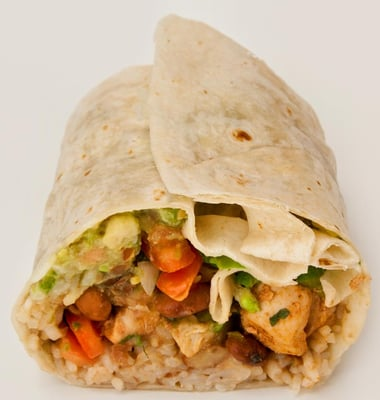soup: (11, 15, 379, 397)
